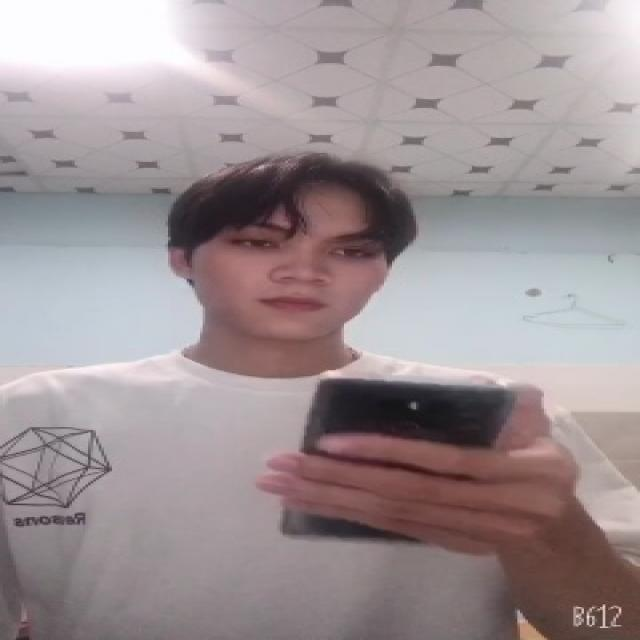Phone: (274, 373, 515, 545)
